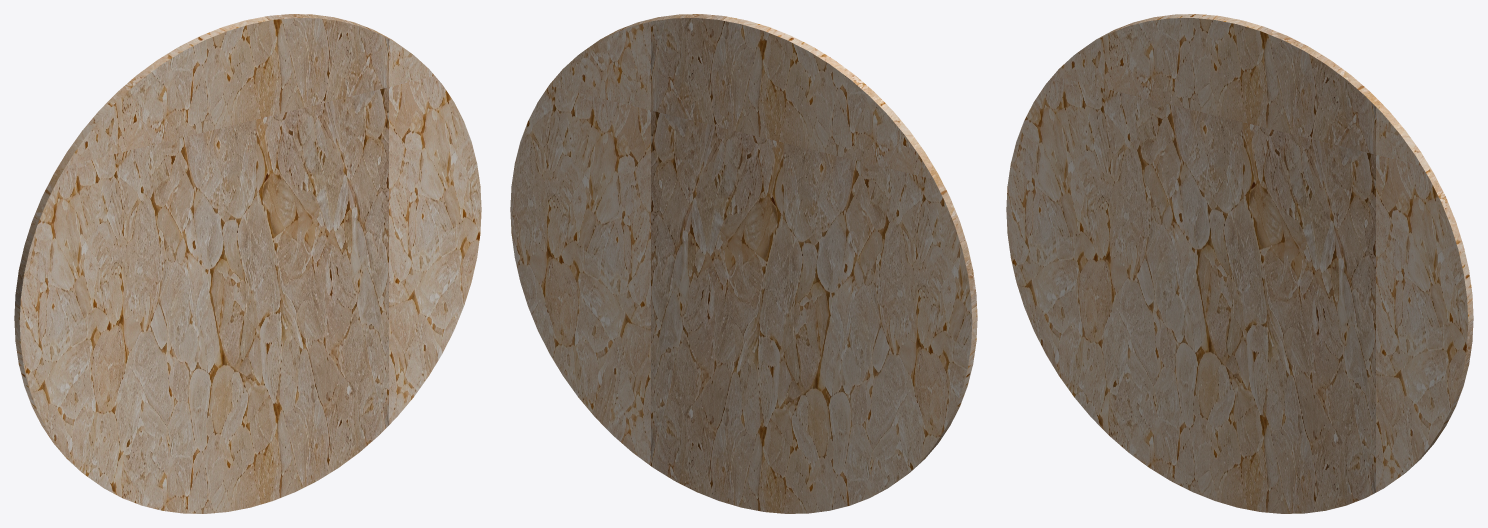
File: resized-circle.glb
The picture shows the model from 3 angles, left to right: view 1: azimuth 30°, elevation 25°; view 2: azimuth 150°, elevation 25°; view 3: azimuth 330°, elevation 25°; orthographic projection.
Parts seen in each view (by area): view 1: TIME STONE product — approximate hidden surfaces; view 2: TIME STONE product — approximate hidden surfaces; view 3: TIME STONE product — approximate hidden surfaces.
Part boxes in pixels (x1=…): TIME STONE product — approximate hidden surfaces: x1=14, y1=14, x2=481, y2=513; TIME STONE product — approximate hidden surfaces: x1=510, y1=14, x2=977, y2=513; TIME STONE product — approximate hidden surfaces: x1=1006, y1=14, x2=1473, y2=513.
Bounding box in the file's own units: 1.5 × 1.5 × 0.03.
3 materials, 3 textured.
